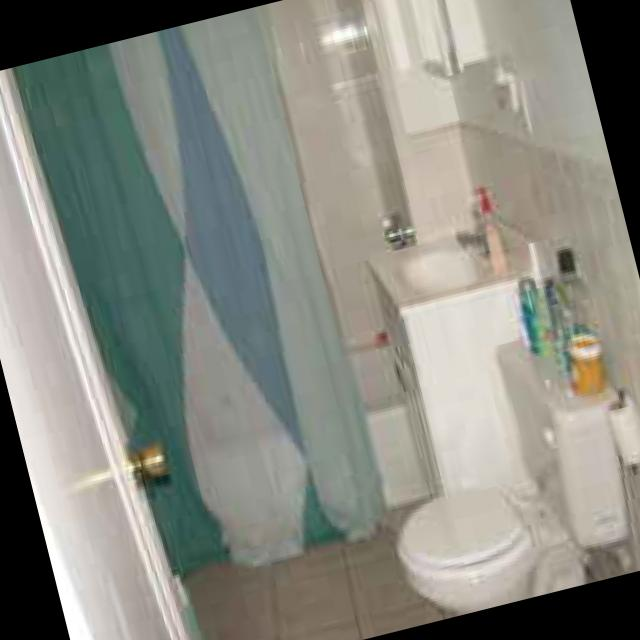bottle crop: (556, 245, 608, 393)
door mat: (127, 434, 174, 487)
medicine cabinet: (397, 0, 489, 78)
shower door handle: (15, 4, 389, 572)
sink basin: (369, 204, 543, 499)
tap: (381, 208, 409, 244)
toilet bowl: (400, 325, 631, 603)
